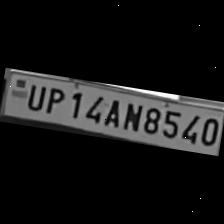0: (196, 113, 220, 150)
1: (62, 88, 86, 120)
4: (178, 109, 202, 146), (80, 90, 106, 124)
5: (158, 106, 182, 140)
8: (138, 102, 162, 136)
A: (100, 94, 124, 128)
N: (119, 99, 144, 134)
P: (41, 83, 67, 117)
U: (22, 80, 46, 113)
